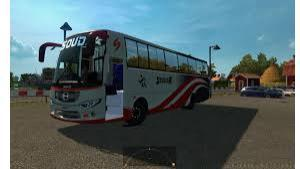bus: (38, 30, 212, 126)
